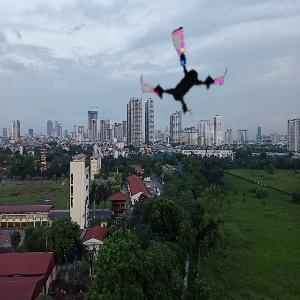drone: (137, 28, 230, 121)
